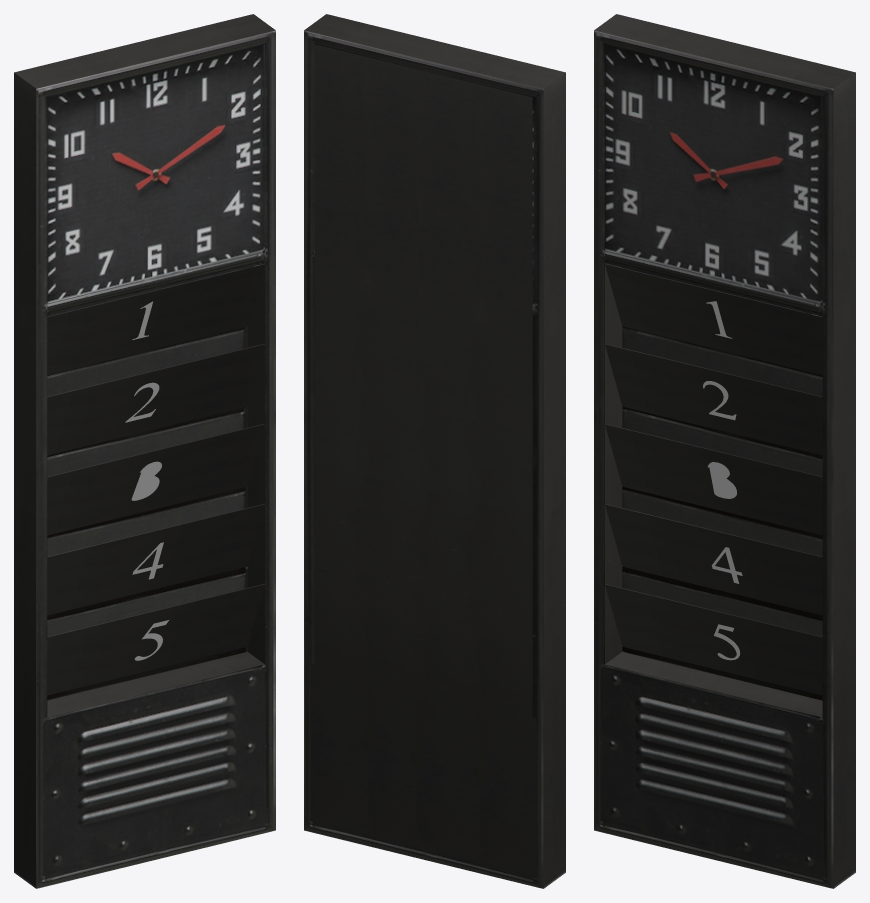
Rendered from Clock.fbx.
3 views of the same model, side by side, from view 1: azimuth 30°, elevation 25°; view 2: azimuth 150°, elevation 25°; view 3: azimuth 330°, elevation 25° (orthographic).
Parts seen in each view (by area): view 1: Group1, Group5, Group2, Group6, Group3, Group4, G_3_1; view 2: Group1; view 3: Group1, Group5, Group2, Group6, Group3, Group4, G_3_1.
Part boxes in pixels (x1,y1,x2,y2): Group1: (14,14,275,888); Group5: (47,263,264,375); Group2: (47,584,264,695); Group6: (47,343,264,455); Group3: (47,504,264,615); Group4: (47,424,264,535); G_3_1: (131,461,161,500); Group1: (304,14,565,888); Group1: (594,14,855,888); Group5: (605,263,822,375); Group2: (605,584,822,695); Group6: (605,343,822,455); Group3: (605,504,822,615); Group4: (605,424,822,535); G_3_1: (707,462,736,498).
Size of the model in its own units: 31 by 99 by 5.
